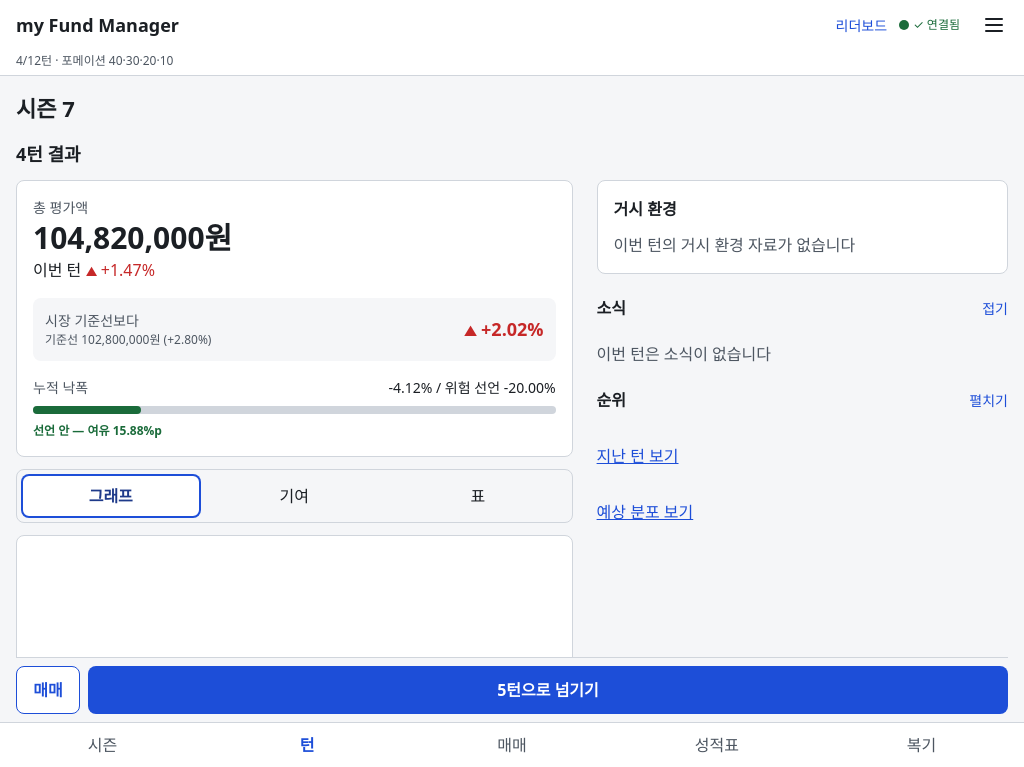
Test: turn tabs › keeps cash, holdings value, weights and deviation in the table tab
Click the tab "표".
click(478, 496)  # box x1=388 y1=474 x2=568 y2=518
(page scrolled)
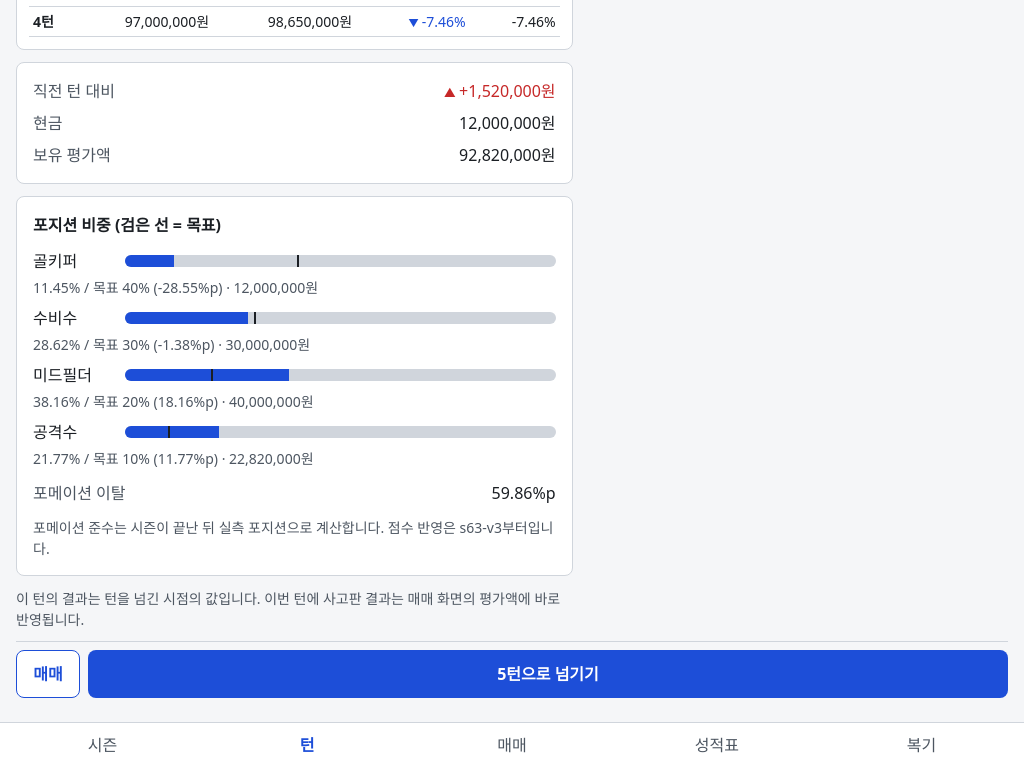
Result: the text "12,000,000원" is shown at x1=459 y1=111 x2=556 y2=135
Result: the text "92,820,000원" is shown at x1=459 y1=143 x2=556 y2=167
Result: the element "포지션 비중" is shown at x1=16 y1=196 x2=573 y2=576
